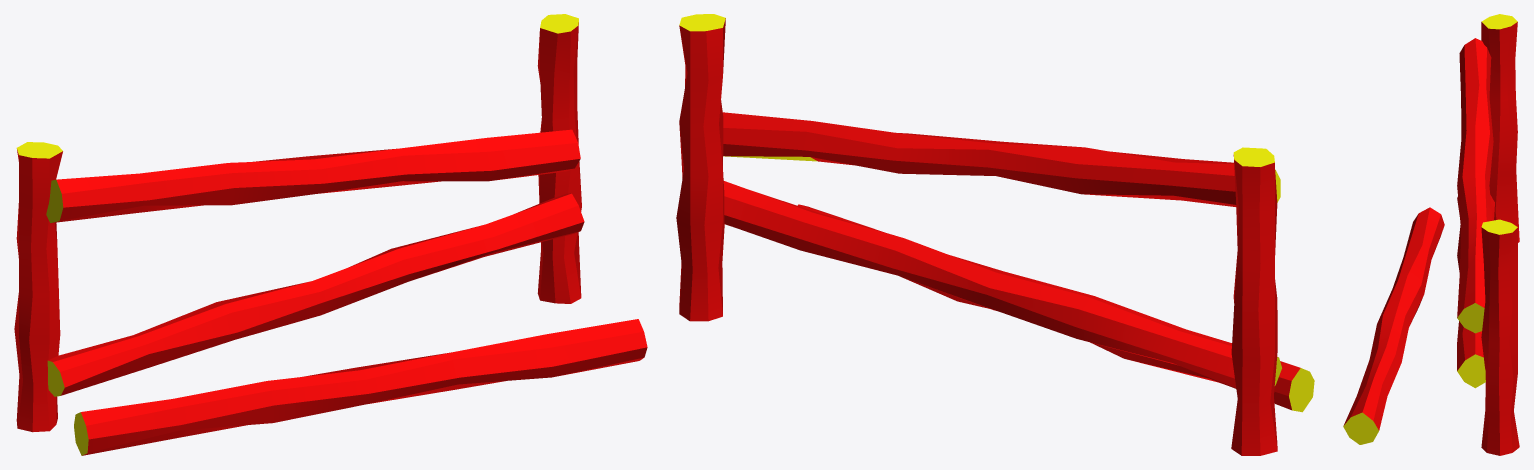
Rendered from Abbie - Fence3.fbx.
3 views of the same model, side by side, from view 1: azimuth 30°, elevation 25°; view 2: azimuth 150°, elevation 25°; view 3: azimuth 270°, elevation 25° (orthographic). The views are drawn at different scales.
Visible parts, largest first — view 1: fence3; view 2: fence3; view 3: fence3.
Boxes of the visible parts, box(x1,y1,x2,y2) form: fence3: box(14, 14, 647, 455); fence3: box(676, 14, 1314, 455); fence3: box(1343, 14, 1519, 455).
Bounding box in the file's own units: 2.17 × 1 × 0.7265.
